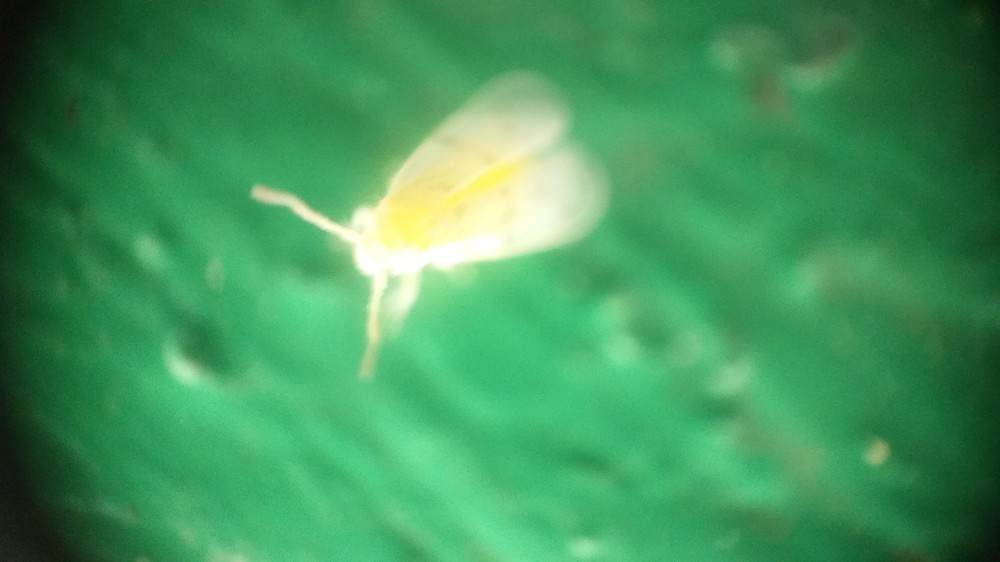Mosca Blanca: (244, 56, 628, 386)
